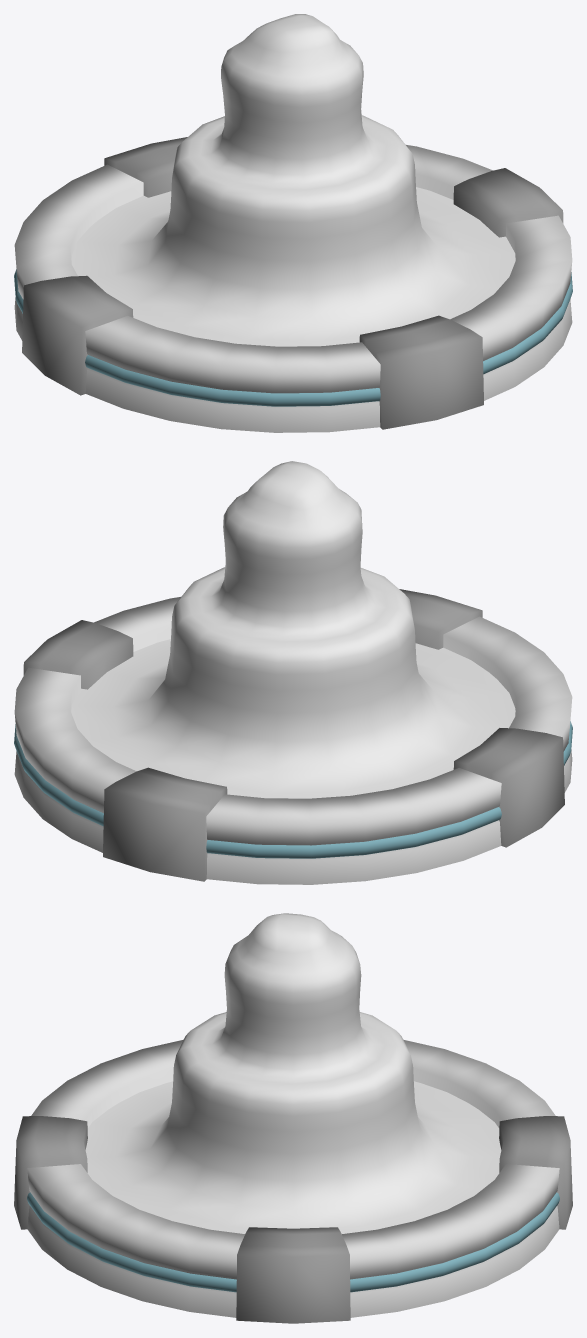
The model's file is Fountain.fbx.
3 views of the same model, one above another, from view 1: azimuth 30°, elevation 25°; view 2: azimuth 150°, elevation 25°; view 3: azimuth 270°, elevation 25° (orthographic). The views are drawn at different scales.
Visible parts, largest first — view 1: Water, Fountain; view 2: Water, Fountain; view 3: Water, Fountain.
Boxes of the visible parts, bbox=[...] form: Water: bbox=[71, 14, 515, 346]; Fountain: bbox=[14, 137, 572, 432]; Water: bbox=[71, 461, 515, 798]; Fountain: bbox=[14, 589, 572, 884]; Water: bbox=[85, 913, 501, 1233]; Fountain: bbox=[14, 1039, 572, 1323].
Size of the model in its own units: 5.24 by 2.95 by 5.24.
